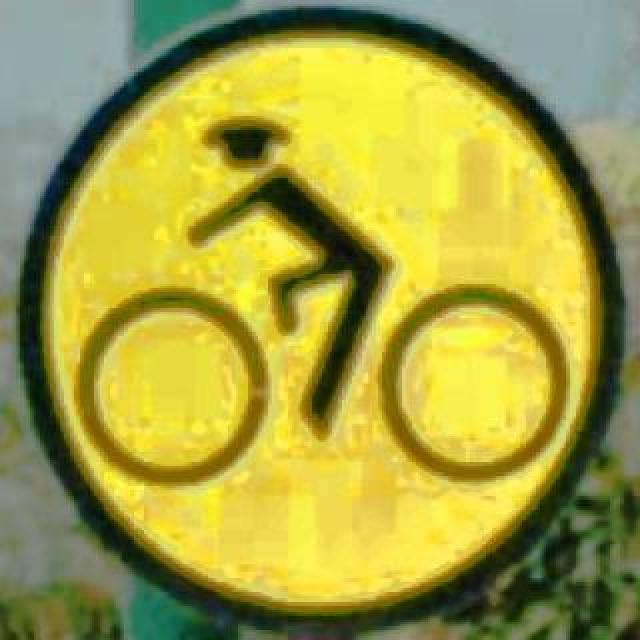bike lane: (12, 0, 618, 632)
